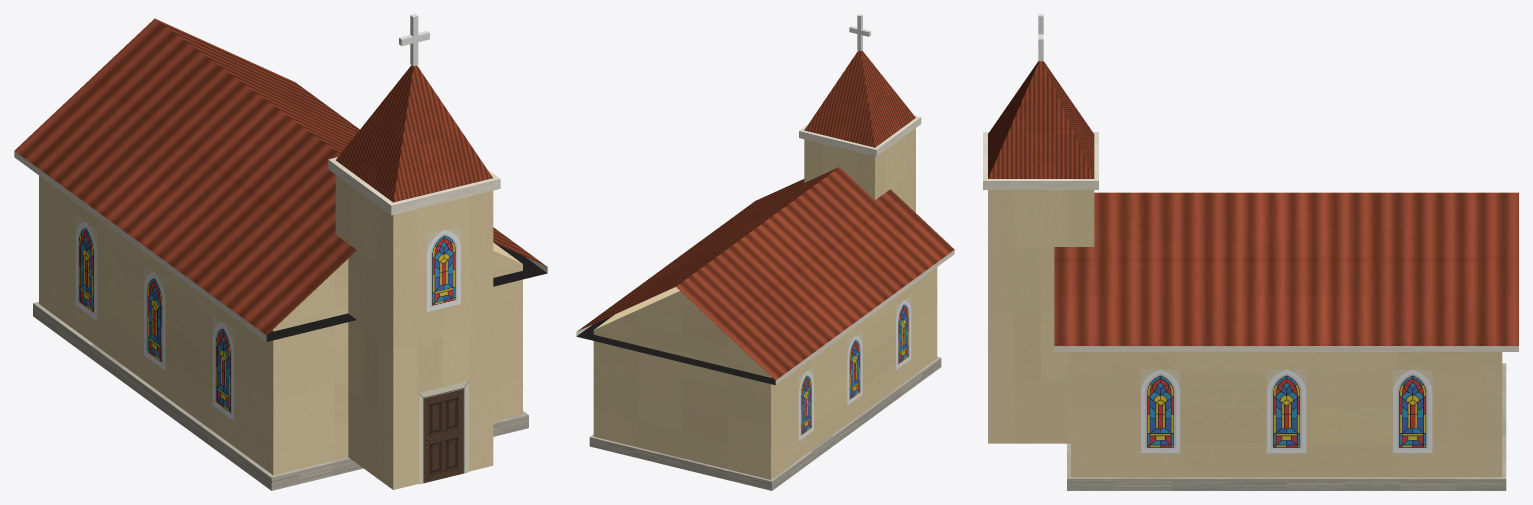
The model's file is church-cream.glb.
The picture shows the model from 3 angles, left to right: view 1: azimuth 30°, elevation 25°; view 2: azimuth 150°, elevation 25°; view 3: azimuth 270°, elevation 25°; orthographic projection. The views are drawn at different scales.
Visible parts, largest first — view 1: church-cream; view 2: church-cream; view 3: church-cream.
Boxes of the visible parts, left/top/right/bottom form: church-cream: left=14, top=14, right=547, bottom=490; church-cream: left=576, top=14, right=954, bottom=490; church-cream: left=983, top=14, right=1518, bottom=490.
Bounding box in the file's own units: 9 × 13.9 × 16.15.
1 material, 1 textured.
